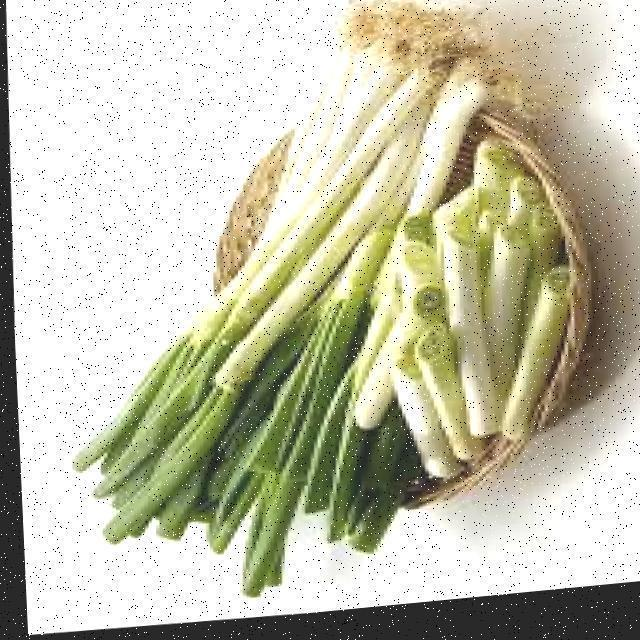green_onion: (78, 53, 497, 599)
